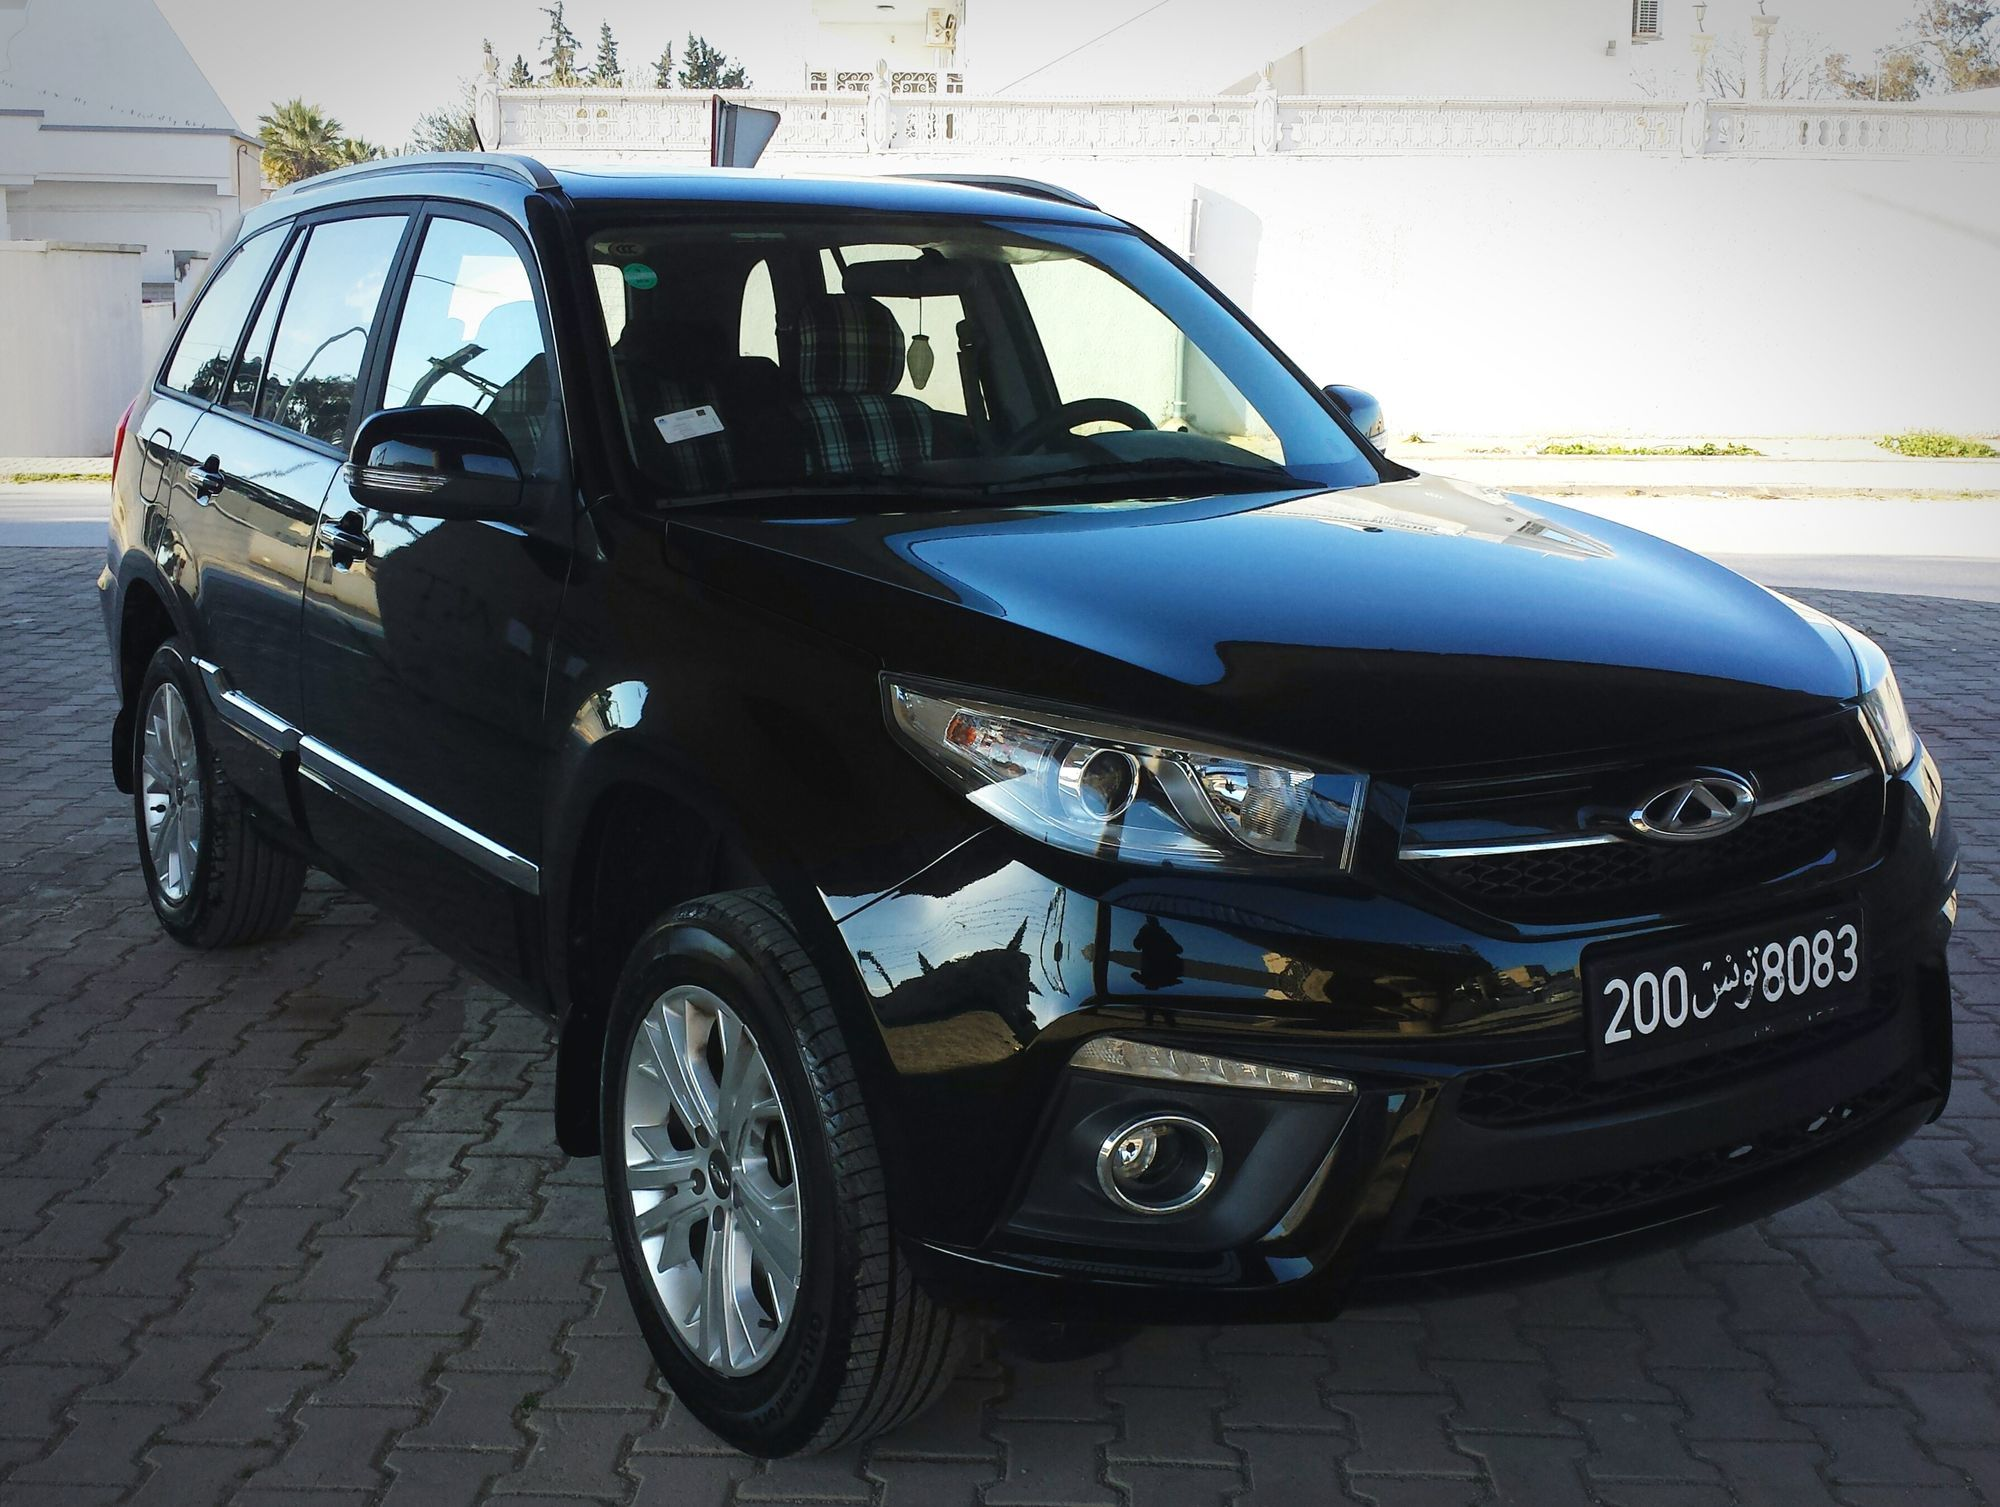LP: (1583, 917, 1867, 1053)
